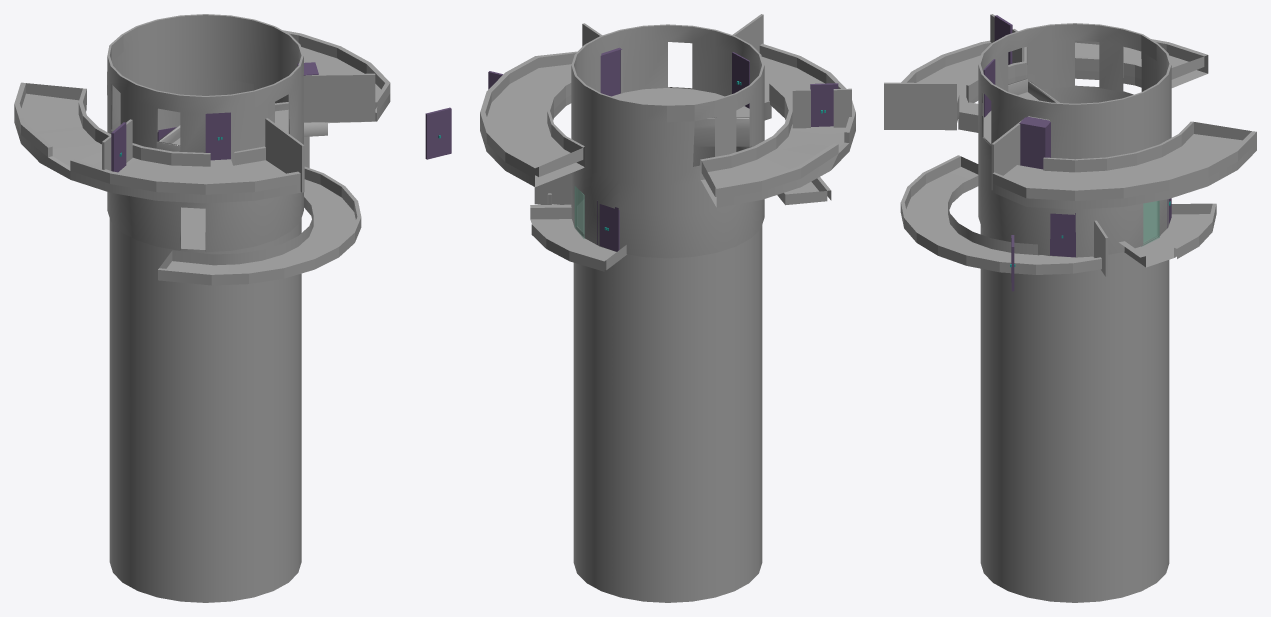
Rendered from Jesting.fbx.
The picture shows the model from 3 angles, left to right: view 1: azimuth 30°, elevation 25°; view 2: azimuth 150°, elevation 25°; view 3: azimuth 270°, elevation 25°; orthographic projection.
Parts seen in each view (by area): view 1: NewLayout:InsideWalls2HALF; view 2: NewLayout:InsideWalls2HALF; view 3: NewLayout:InsideWalls2HALF.
Part boxes in pixels (x1,y1,x2,y2): NewLayout:InsideWalls2HALF: (14,14,451,602); NewLayout:InsideWalls2HALF: (480,14,855,602); NewLayout:InsideWalls2HALF: (884,14,1256,602).
Bounding box in the file's own units: 4569 × 5836 × 3950.
